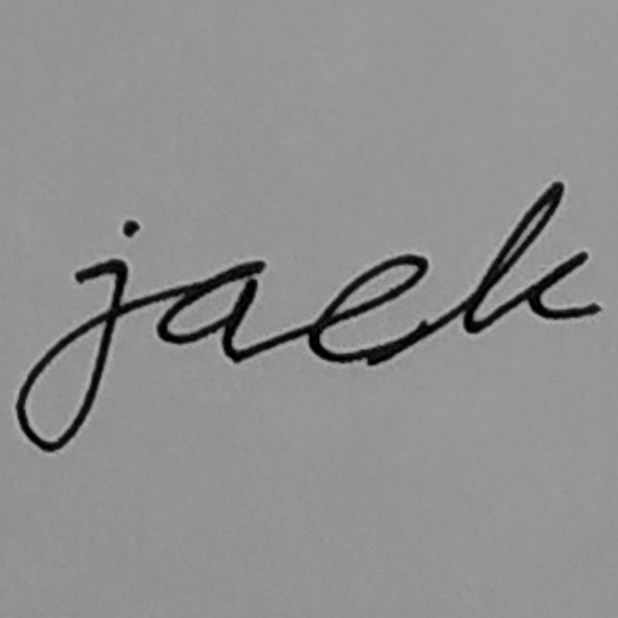a: (151, 254, 273, 368)
c: (300, 249, 432, 372)
j: (10, 213, 145, 455)
k: (459, 177, 606, 340)
